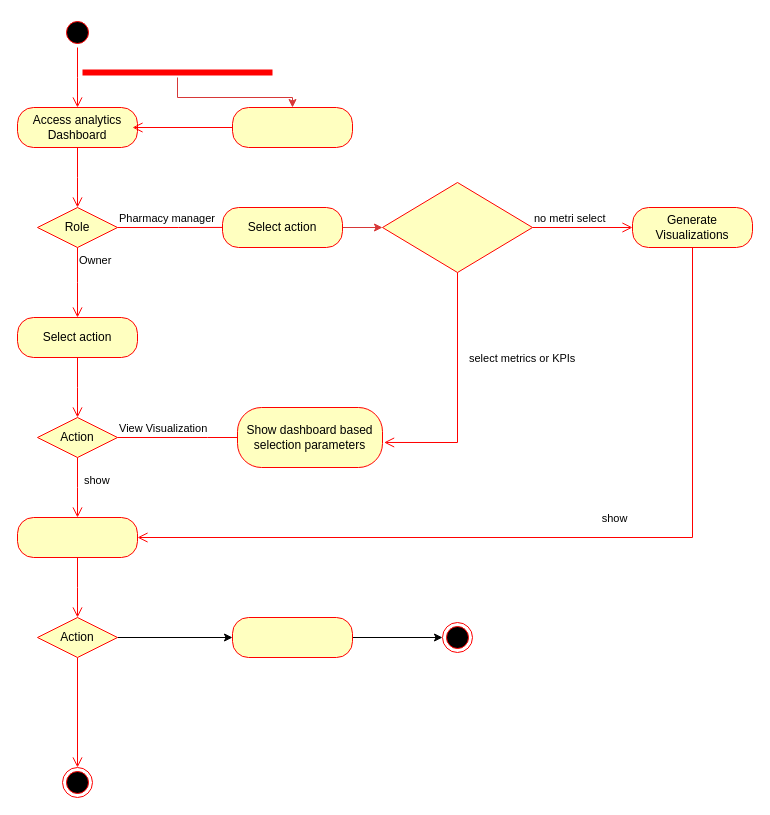
Image size: 770x815. Some labels were removed from this diagram. Here are the shapes that lost their labels. From the top down, the centre of each, then its label:
At (292,127): "Generare reports".
At (457,227): "Select Specific metric and filters".
At (77,537): "View Dashboard".
At (292,637): "Download reports".
